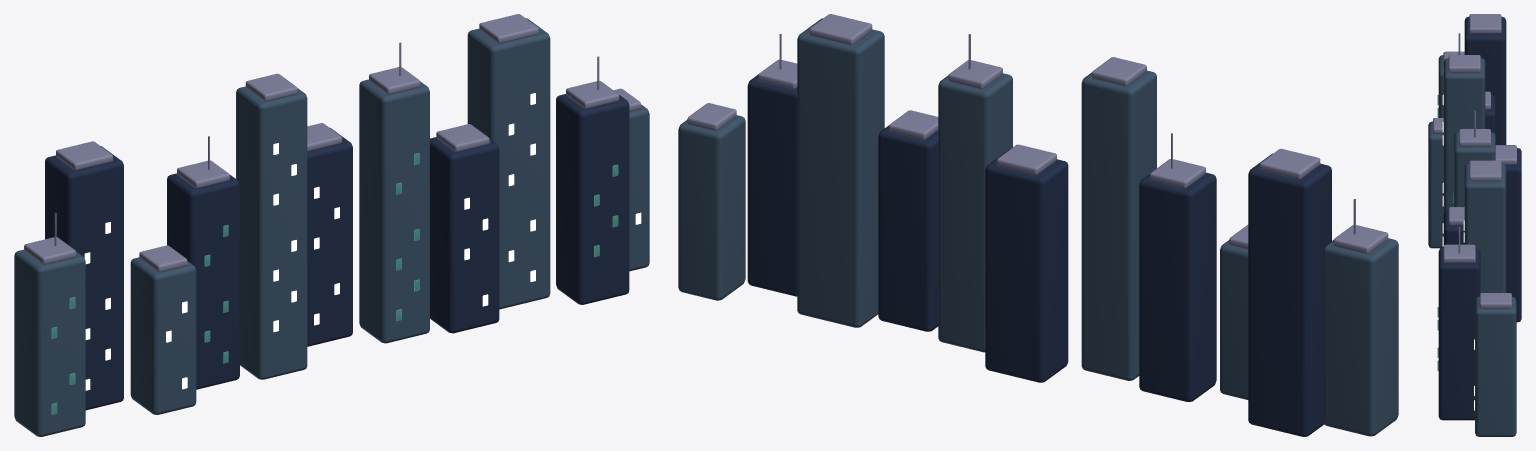
Rendered from distant_city.glb.
3 renders of one model, left to right at view 1: azimuth 30°, elevation 25°; view 2: azimuth 150°, elevation 25°; view 3: azimuth 270°, elevation 25°, orthographic. The views are drawn at different scales.
Visible parts, largest first — view 1: distant_city_mesh; view 2: distant_city_mesh; view 3: distant_city_mesh.
Boxes of the visible parts, x1,y1,x2,y2 form: distant_city_mesh: [14, 14, 649, 436]; distant_city_mesh: [678, 14, 1398, 436]; distant_city_mesh: [1427, 14, 1521, 436].
Bounding box in the file's own units: 11.31 × 4.87 × 1.82.
